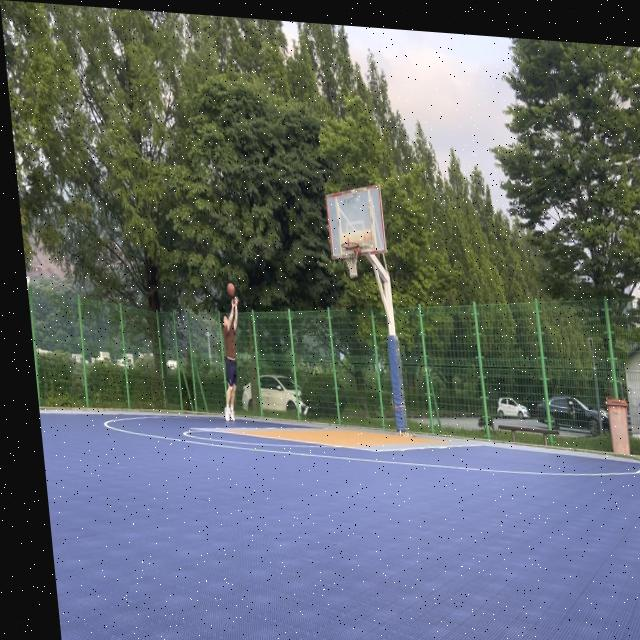basketball: (226, 282, 236, 298)
hoop: (341, 241, 363, 280)
